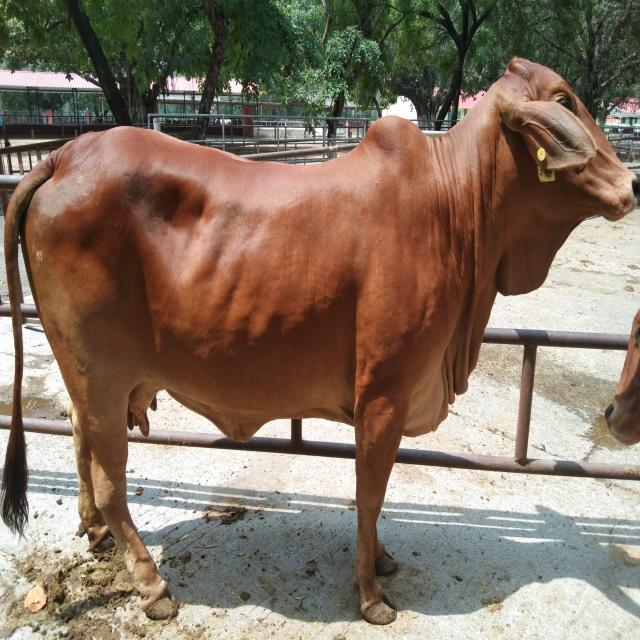1: (351, 111, 427, 151)
Hoof: (143, 590, 179, 621), (359, 598, 397, 625), (374, 550, 398, 576)
